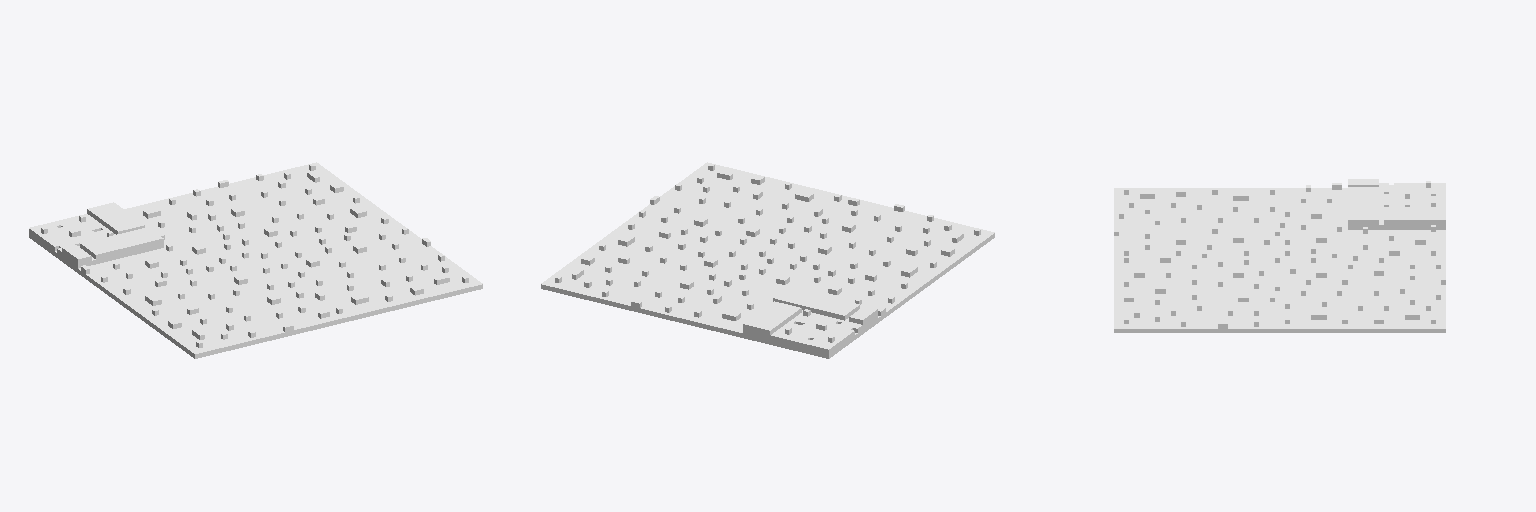
File: EarthPathTurn_3.obj
The picture shows the model from 3 angles: view 1: azimuth 30°, elevation 25°; view 2: azimuth 150°, elevation 25°; view 3: azimuth 270°, elevation 25°; orthographic projection.
Visible parts, largest first — view 1: EarthPathTurn_3; view 2: EarthPathTurn_3; view 3: EarthPathTurn_3.
Boxes of the visible parts, box(x1,y1,x2,y2) form: EarthPathTurn_3: box(29, 162, 482, 358); EarthPathTurn_3: box(541, 162, 994, 358); EarthPathTurn_3: box(1114, 179, 1445, 332).
Size of the model in its own units: 1 by 0.0469 by 1.